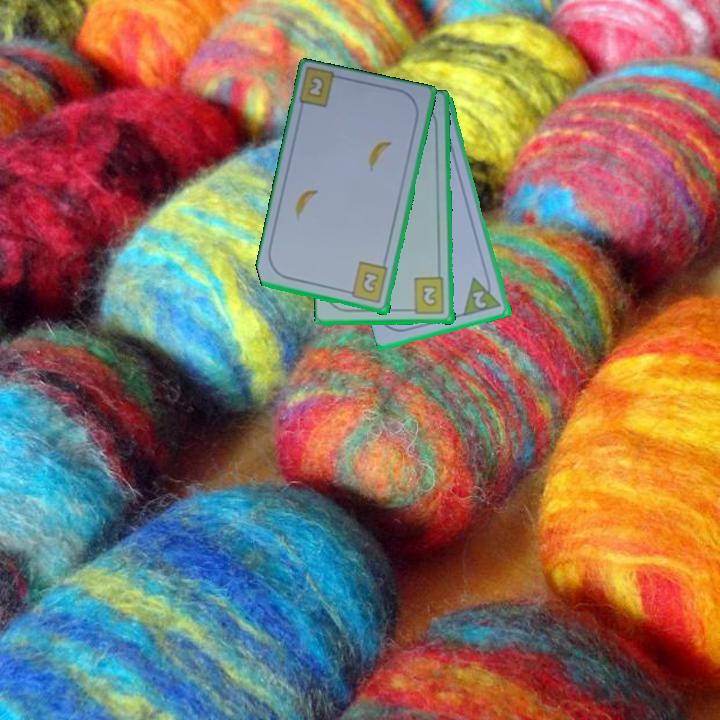2b: (343, 259, 391, 306), (405, 275, 447, 317), (306, 75, 326, 98)
2p: (469, 287, 490, 311)
